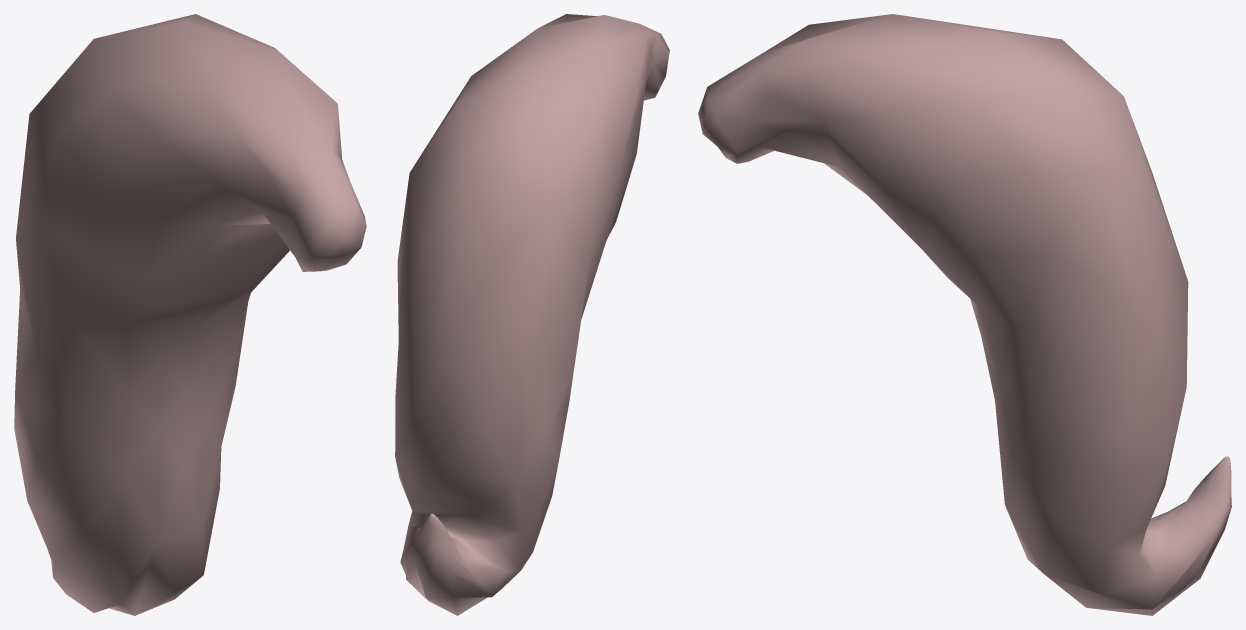
The model's file is Tail_04.fbx.
The picture shows the model from 3 angles, left to right: view 1: azimuth 30°, elevation 25°; view 2: azimuth 150°, elevation 25°; view 3: azimuth 270°, elevation 25°; orthographic projection. The views are drawn at different scales.
Visible parts, largest first — view 1: Tail_04; view 2: Tail_04; view 3: Tail_04.
Boxes of the visible parts, <box> form: Tail_04: <box>14,14,366,615</box>; Tail_04: <box>395,14,669,615</box>; Tail_04: <box>698,14,1231,615</box>.
Size of the model in its own units: 0.7952 by 2.2 by 1.85.
